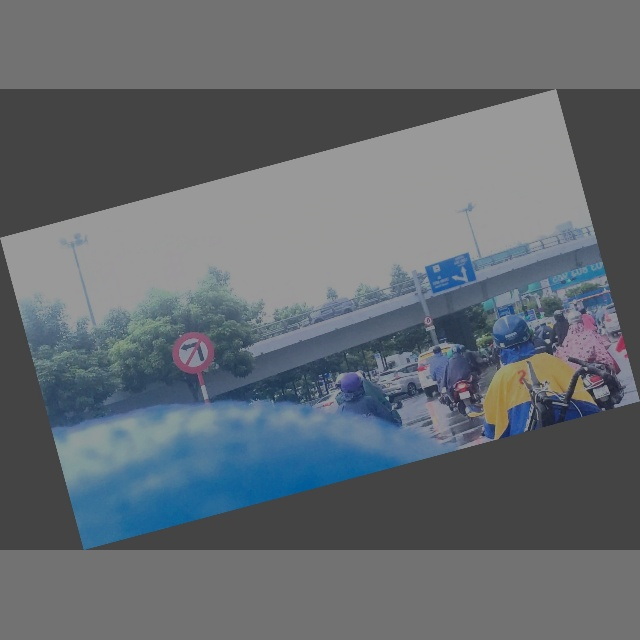P.123b: (167, 327, 219, 380)
P.124b1: (422, 316, 434, 328)
